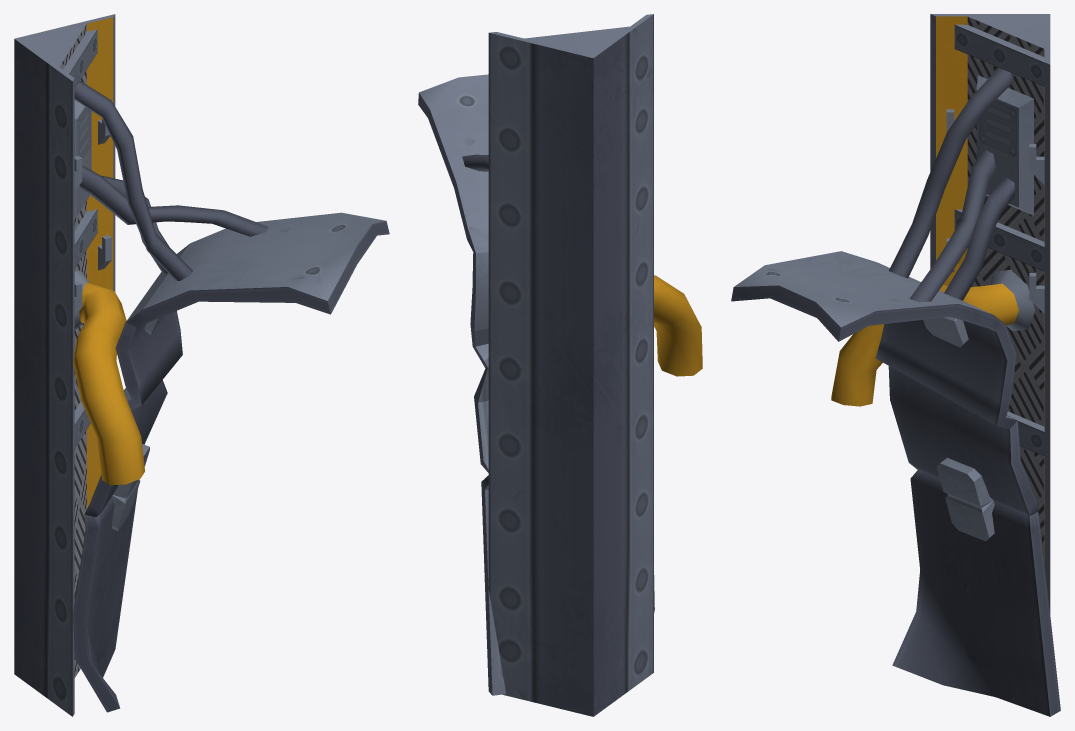
File: obj_spaceship_corner01_damaged.fbx
The picture shows the model from 3 angles, left to right: view 1: azimuth 30°, elevation 25°; view 2: azimuth 150°, elevation 25°; view 3: azimuth 270°, elevation 25°; orthographic projection. The views are drawn at different scales.
Parts seen in each view (by area): view 1: polySurface221; view 2: polySurface221; view 3: polySurface221.
Boxes of the visible parts, x1,y1,x2,y2 form: polySurface221: [14, 14, 389, 716]; polySurface221: [418, 14, 702, 716]; polySurface221: [731, 14, 1060, 716].
Size of the model in its own units: 5.57 by 12 by 5.5.
